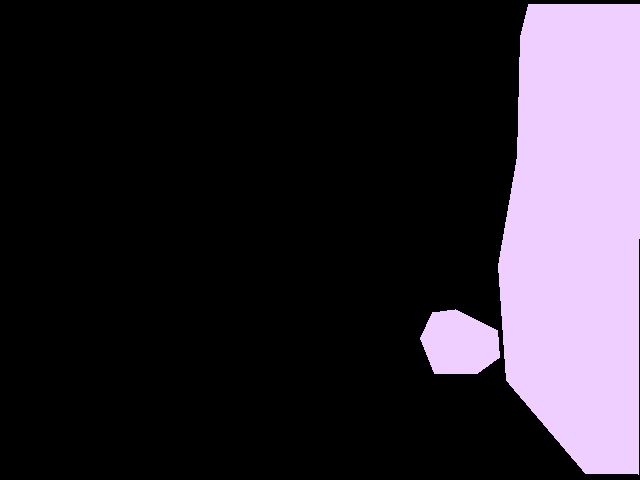Train: (498, 4, 640, 475), (420, 309, 500, 374)
